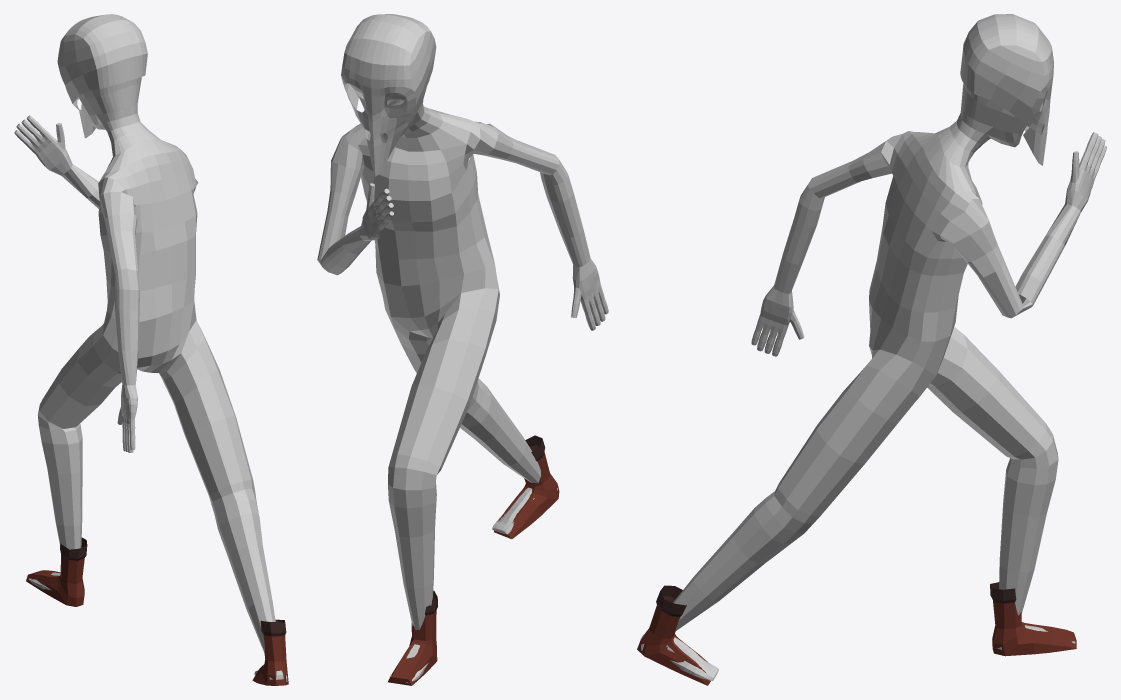
The model's file is marcha5_000042.obj.
3 renders of one model, left to right at view 1: azimuth 30°, elevation 25°; view 2: azimuth 150°, elevation 25°; view 3: azimuth 270°, elevation 25°, orthographic. The views are drawn at different scales.
Parts seen in each view (by area): view 1: Plane.002_Plane.001, Plane.004, Plane.003; view 2: Plane.002_Plane.001, Plane.003, Plane.004; view 3: Plane.002_Plane.001, Plane.004, Plane.003.
Boxes of the visible parts, x1=… form: Plane.002_Plane.001: x1=14, y1=14, x2=287, y2=681; Plane.004: x1=26, y1=537, x2=87, y2=606; Plane.003: x1=252, y1=619, x2=288, y2=685; Plane.002_Plane.001: x1=317, y1=14, x2=608, y2=682; Plane.003: x1=494, y1=435, x2=559, y2=539; Plane.004: x1=388, y1=590, x2=437, y2=685; Plane.002_Plane.001: x1=640, y1=14, x2=1106, y2=680; Plane.004: x1=990, y1=582, x2=1076, y2=656; Plane.003: x1=637, y1=585, x2=710, y2=685.
Bounding box in the file's own units: 1.83 × 6.42 × 4.22.
